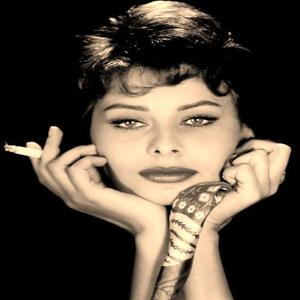cigarette: (4, 143, 46, 158)
